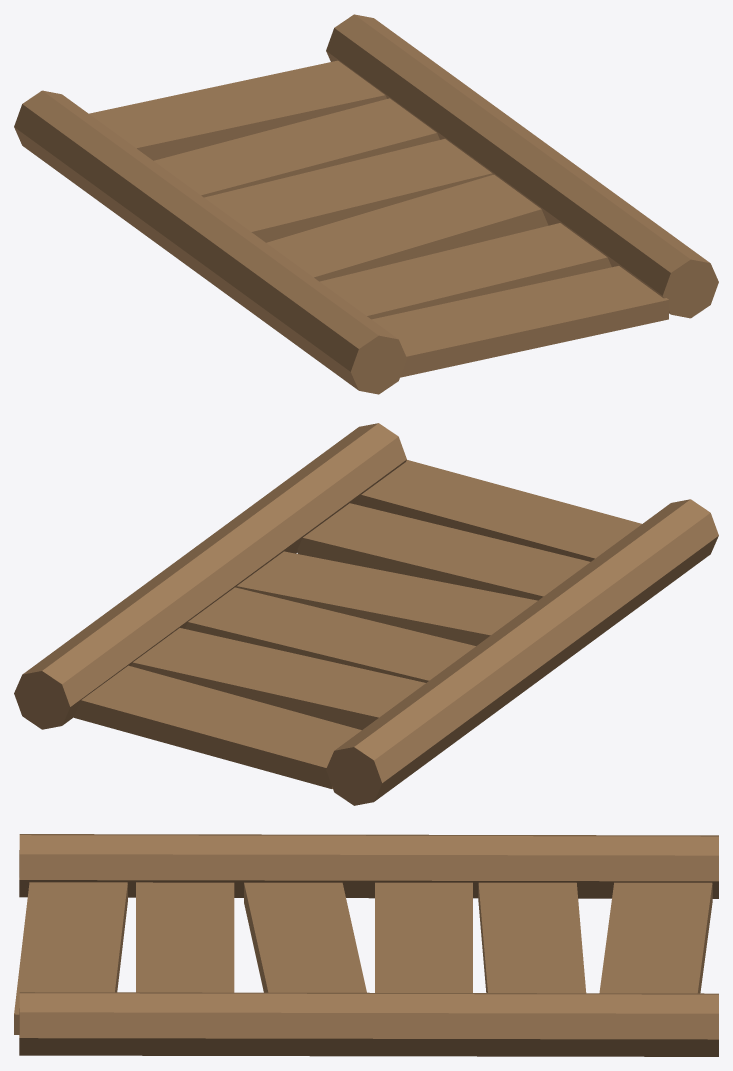
The model's file is bridge.fbx.
3 renders of one model, top to bottom at view 1: azimuth 30°, elevation 25°; view 2: azimuth 150°, elevation 25°; view 3: azimuth 270°, elevation 25°, orthographic. The views are drawn at different scales.
Parts seen in each view (by area): view 1: Cube; view 2: Cube; view 3: Cube.
Boxes of the visible parts, <box> form: Cube: <box>14,14,718,394</box>; Cube: <box>14,423,718,805</box>; Cube: <box>14,834,718,1056</box>.
Size of the model in its own units: 276 by 43.11 by 440.
